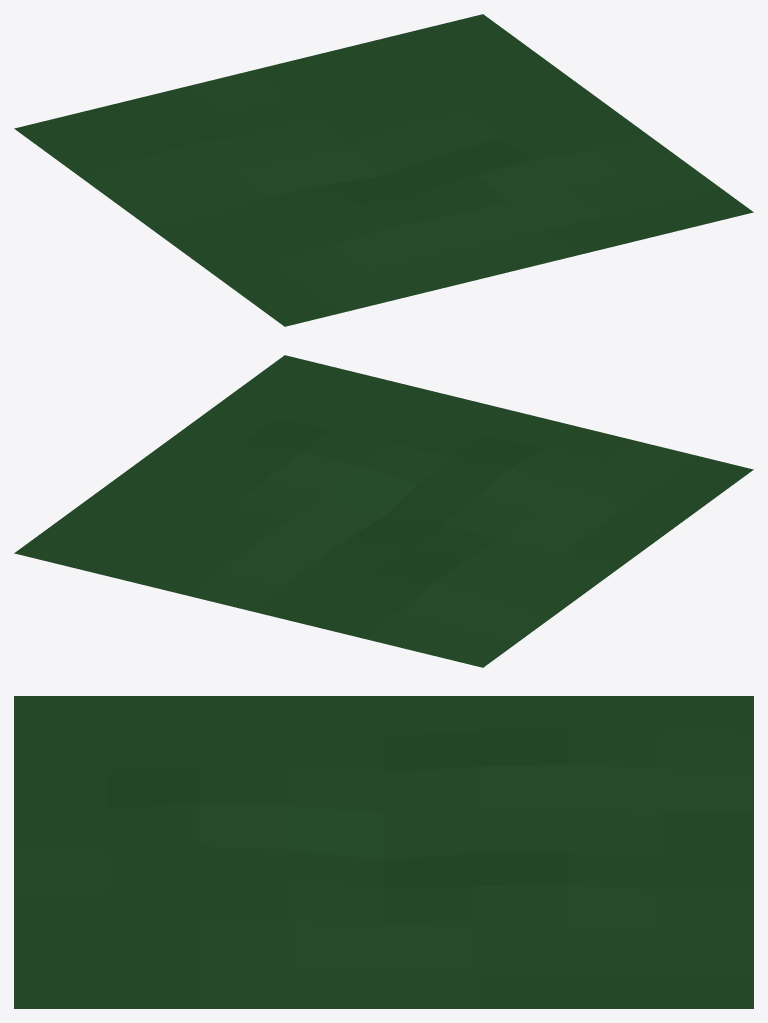
The model's file is Terrain_9_Dark_Green.fbx.
3 renders of one model, top to bottom at view 1: azimuth 30°, elevation 25°; view 2: azimuth 150°, elevation 25°; view 3: azimuth 270°, elevation 25°, orthographic. The views are drawn at different scales.
Parts seen in each view (by area): view 1: Terrain_9_Dark_Green; view 2: Terrain_9_Dark_Green; view 3: Terrain_9_Dark_Green.
Part boxes in pixels (<box>): Terrain_9_Dark_Green: <box>14,14,753,326</box>; Terrain_9_Dark_Green: <box>14,355,753,667</box>; Terrain_9_Dark_Green: <box>14,696,753,1008</box>.
Bounding box in the file's own units: 4000 × 106 × 4000.
